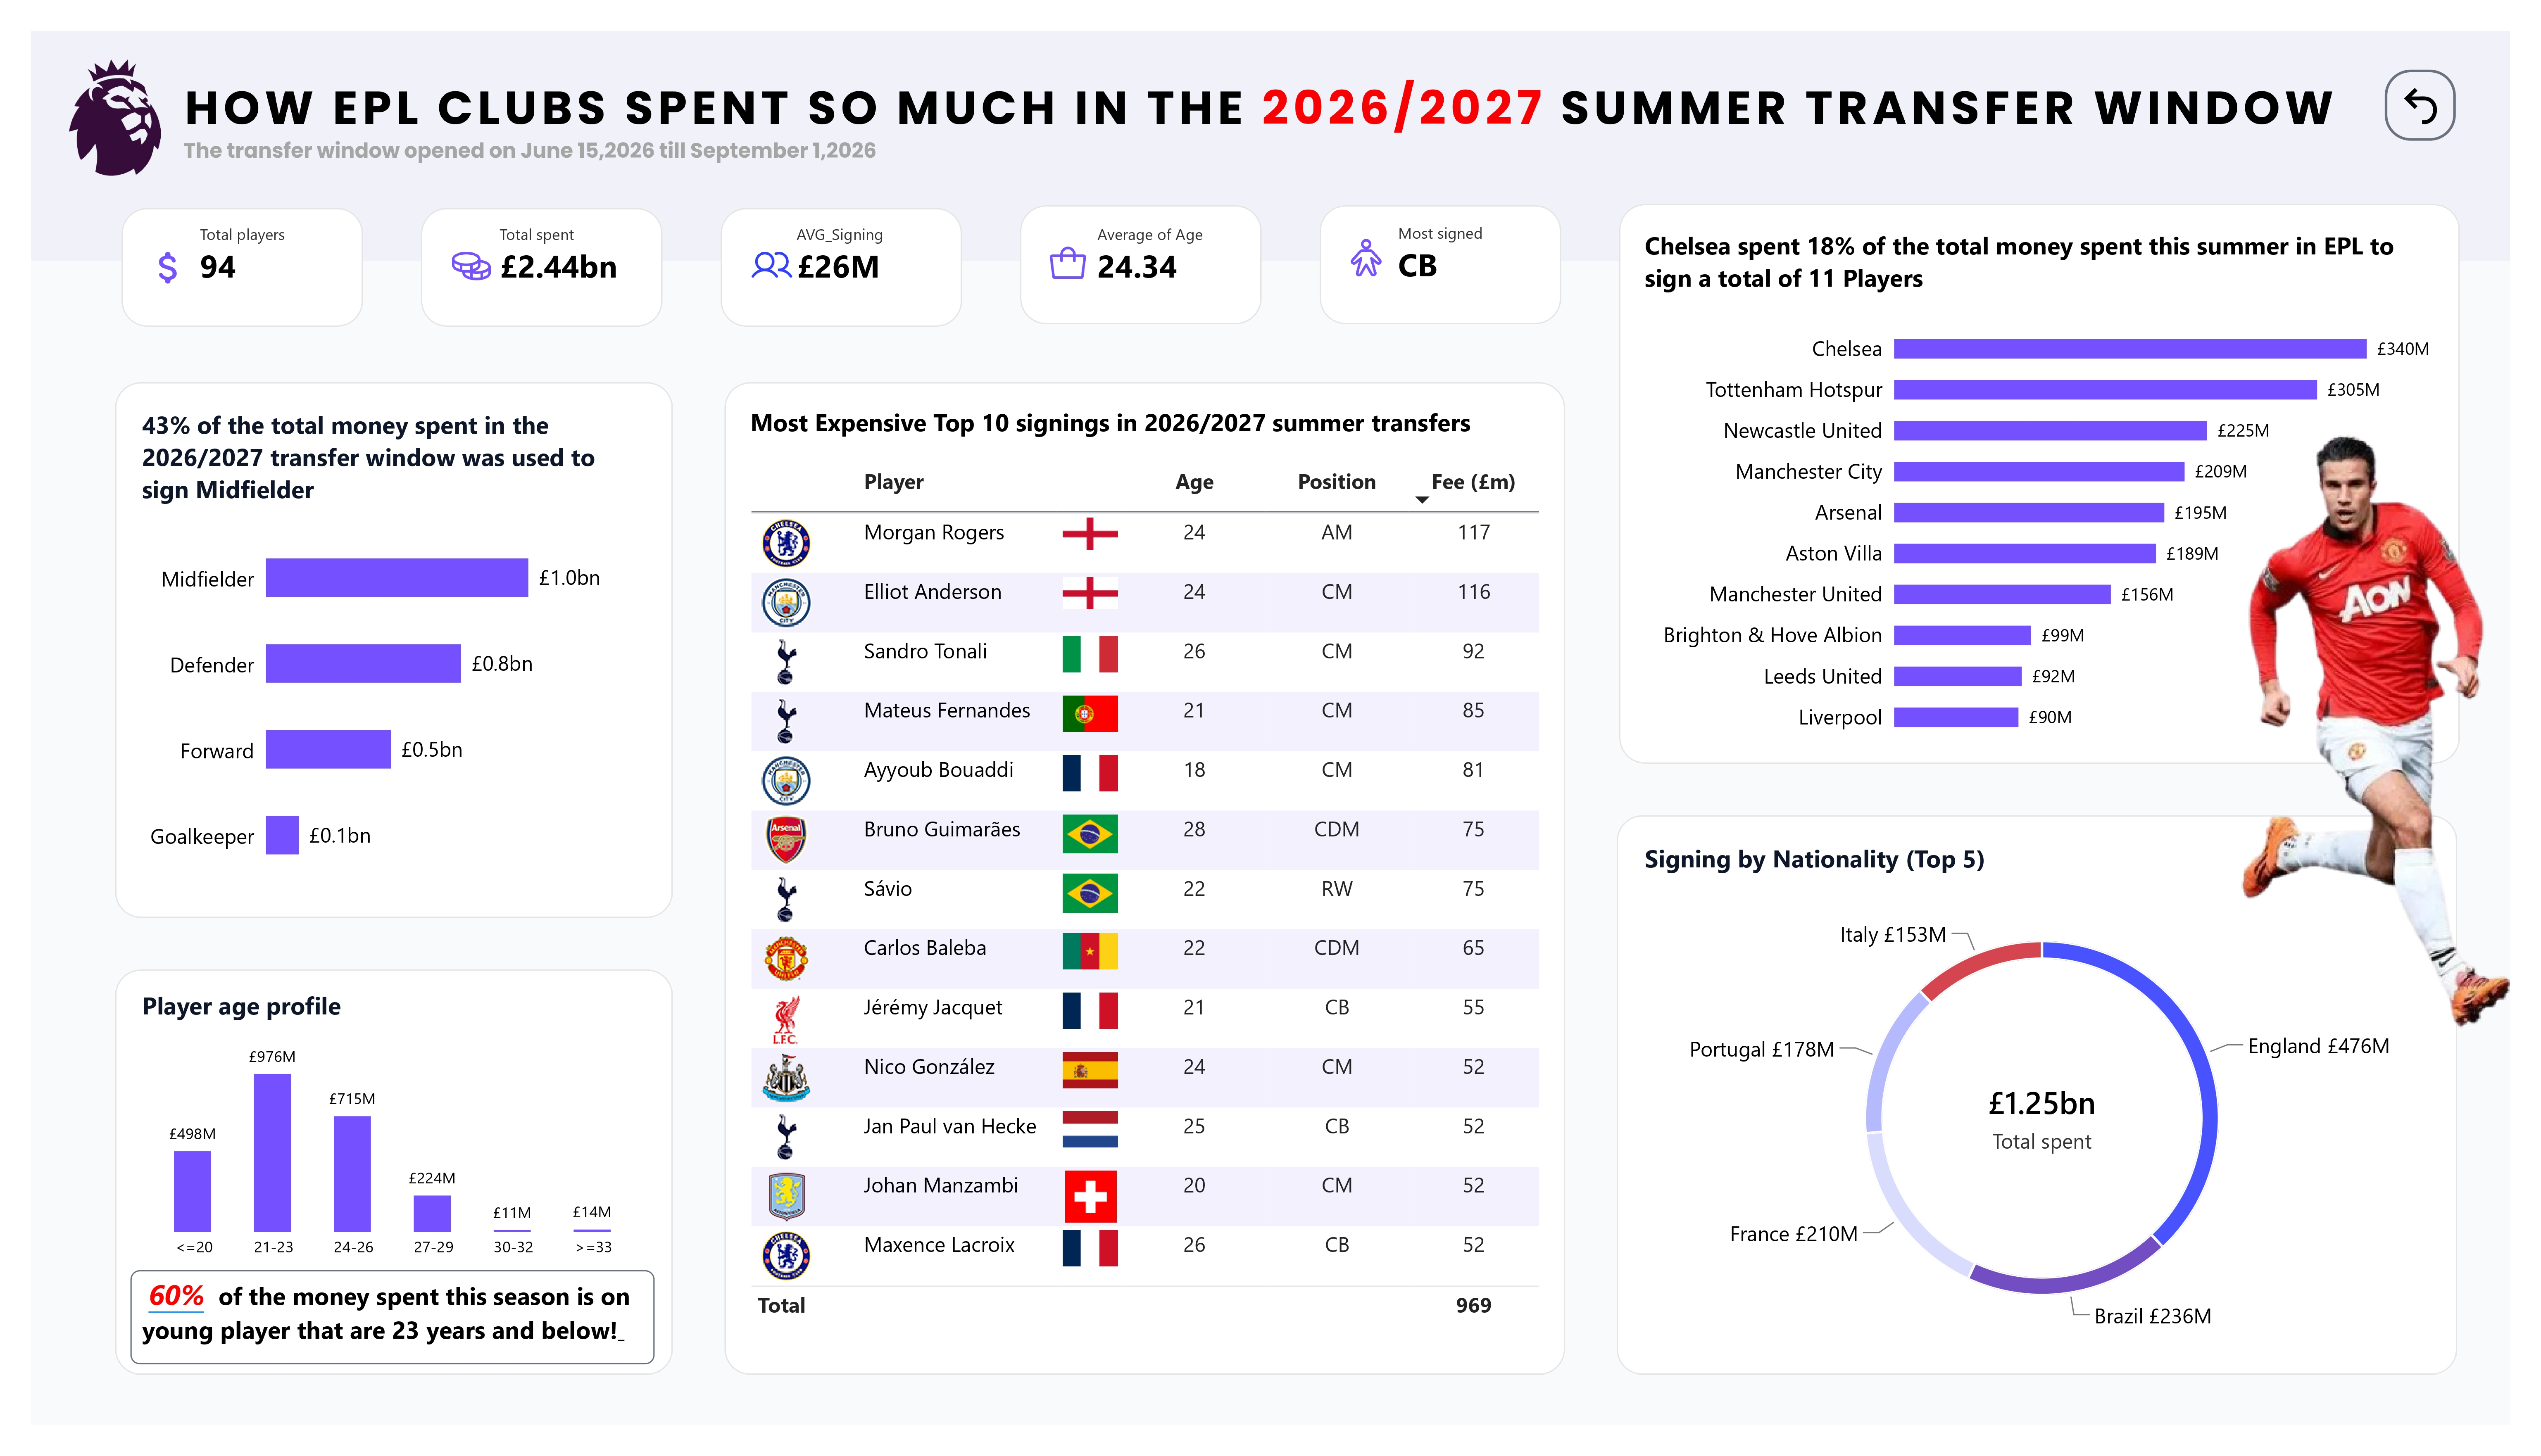

This screenshot's page, from the dashboard's own definition file:
{"tool":"powerbi","page":{"name":"Main Dashboard","canvas":[1920,1080],"ordinal":0},"visuals":[{"type":"tableEx","title":"Most Expensive Top 10 signings in 2026/2027 summer transfers","fields":{"Values":["ClubCrests.Crest URL (direct PNG)","Transfers1.Player","NationalityFlags.Flag URL (direct PNG)","Transfers1.Age","Transfers1.Position","Sum(Transfers1.Fee (£m))"]},"box":[537,270,651.3,771.6],"z":0},{"type":"clusteredBarChart","fields":{"Category":["ClubCrests.Club"],"Y":["DAX.Total spent"]},"box":[1230,132.5,647.5,440],"z":1000},{"type":"clusteredBarChart","fields":{"Category":["Transfers1.Position Group"],"Y":["DAX.Total spent"]},"box":[66.3,272.1,428.8,415.4],"z":2000},{"type":"clusteredColumnChart","title":"Player age profile ","fields":{"Category":["Transfers1.Age Range"],"Y":["DAX.Total spent"]},"box":[66.4,727.9,430,247.1],"z":3000},{"type":"donutChart","title":"Signing by Nationality (Top 5)","fields":{"Category":["NationalityFlags.Nationality"],"Y":["DAX.Total spent"]},"box":[1230.1,608.2,654.4,434.4],"z":4000},{"type":"cardVisual","fields":{"Data":["DAX.Total spent"]},"box":[303,138,186.2,90.9],"z":5000},{"type":"cardVisual","fields":{"Data":["DAX.Avg signing"]},"box":[533,138,188.5,90.9],"z":6000},{"type":"cardVisual","fields":{"Data":["Avg(Transfers1.Age)"]},"box":[766,138,186.2,90.9],"z":7000},{"type":"textbox","box":[65.7,944.3,430,97.1],"z":8000},{"type":"cardVisual","fields":{"Data":["DAX.Most signed position"]},"box":[999,136,185,91],"z":9000},{"type":"cardVisual","fields":{"Data":["DAX.Total players"]},"box":[71,138,186.2,90.9],"z":10000},{"type":"actionButton","box":[1822.5,30,55,55],"z":11000},{"type":"shape","box":[77.1,960,405.7,72.9],"z":12000}]}

Visuals, with their boxes on the page's 1920x1080 design canvas (x1, y1, x2, y2). These are canvas units, not pixel positions in the 2541x1456 screenshot, which may show the page scaled, cropped or inside an application window:
"Most Expensive Top 10 signings in 2026/2027 summer transfers" tableEx: Rect(537, 270, 1188, 1042)
clusteredBarChart - ClubCrests.Club x DAX.Total spent: Rect(1230, 132, 1878, 572)
clusteredBarChart - Transfers1.Position Group x DAX.Total spent: Rect(66, 272, 495, 688)
"Player age profile " clusteredColumnChart: Rect(66, 728, 496, 975)
"Signing by Nationality (Top 5)" donutChart: Rect(1230, 608, 1884, 1043)
cardVisual - DAX.Total spent: Rect(303, 138, 489, 229)
cardVisual - DAX.Avg signing: Rect(533, 138, 722, 229)
cardVisual - Avg(Transfers1.Age): Rect(766, 138, 952, 229)
textbox: Rect(66, 944, 496, 1041)
cardVisual - DAX.Most signed position: Rect(999, 136, 1184, 227)
cardVisual - DAX.Total players: Rect(71, 138, 257, 229)
actionButton: Rect(1822, 30, 1878, 85)
shape: Rect(77, 960, 483, 1033)
